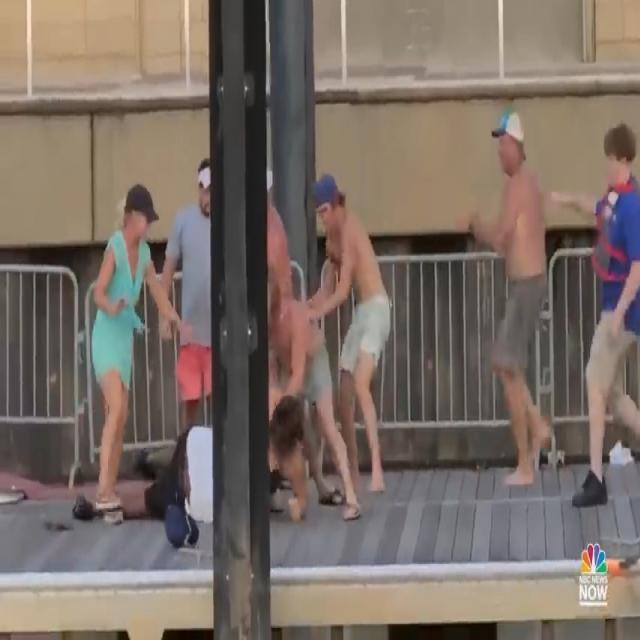fight: (83, 180, 365, 528)
